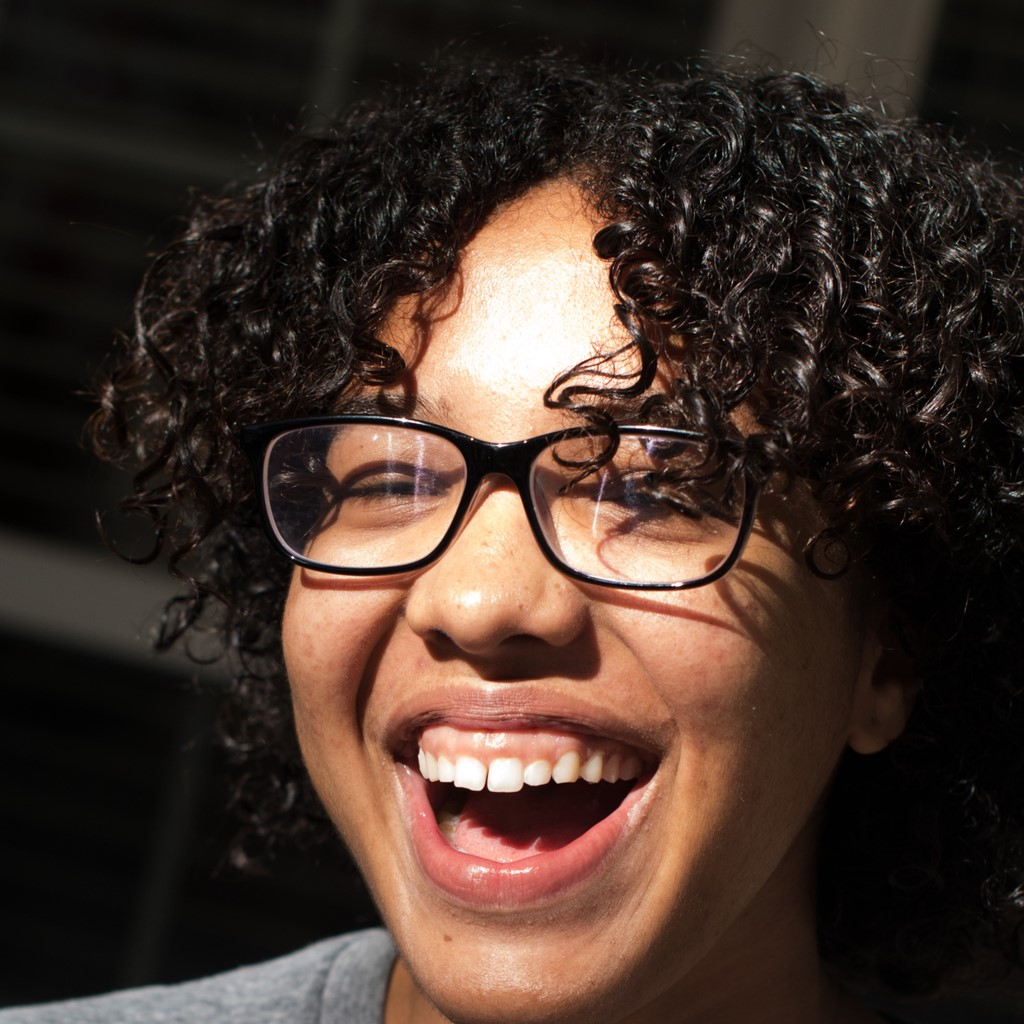sin_mascara: (231, 173, 894, 1003)
